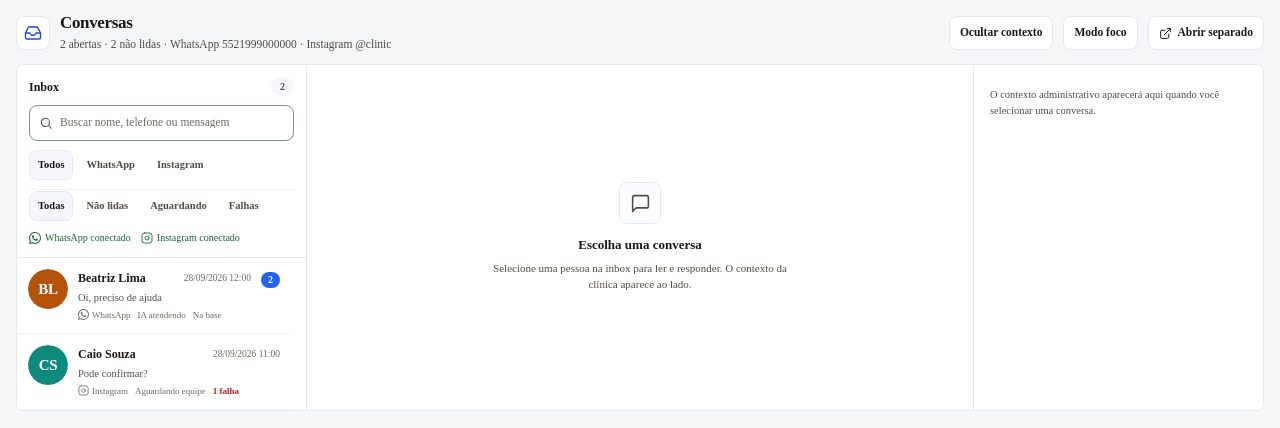
Test: workspace operacional de Conversas › estado sem seleção é equilibrado e mantém inbox/contexto; filtro de aguardando funciona
expect the element named "Inbox de conversas" is shown: met, box [17,65,307,410]
expect the heading "Escolha uma conversa" is shown: met, box [578,235,702,255]
Click the button "Aguardando". click: [178, 206]
box: [141,191,216,221]
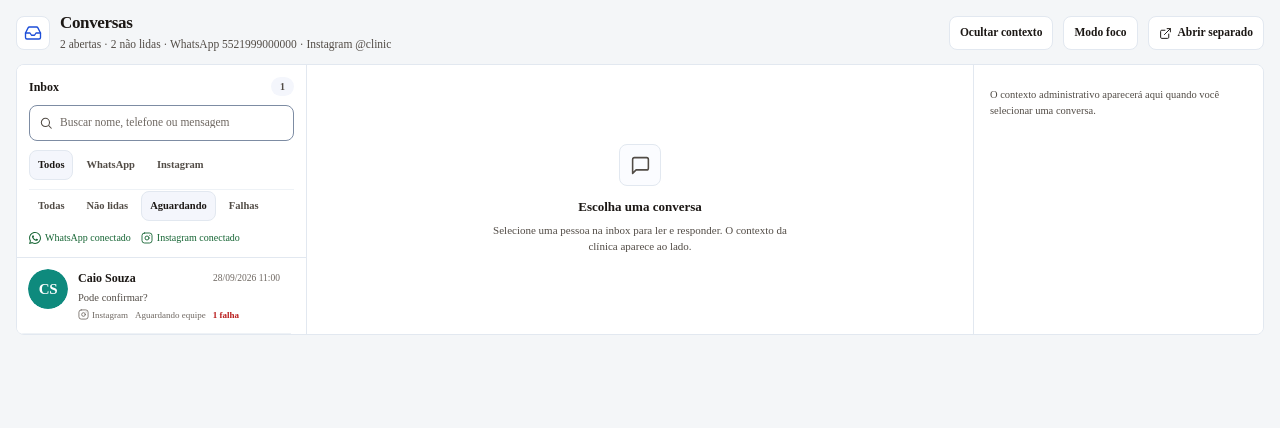
expect the button "Caio Souza" is shown: met, box [17,258,291,334]
expect the button "Beatriz Lima" is gone: met
Click the button "Não lidas". click: [107, 206]
box: [78,191,137,221]
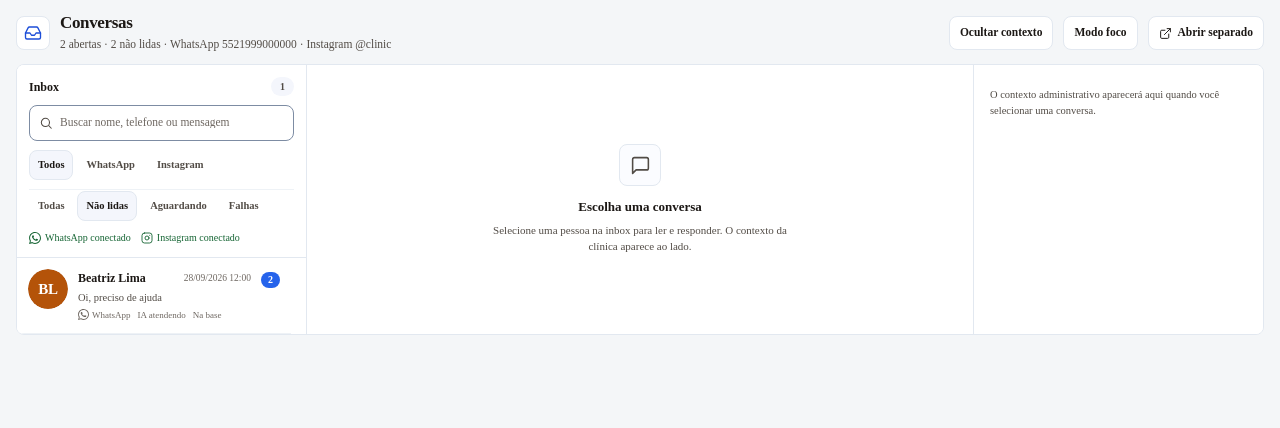
expect the button "Beatriz Lima" is shown: met, box [17,258,291,334]
expect the button "Caio Souza" is gone: met
